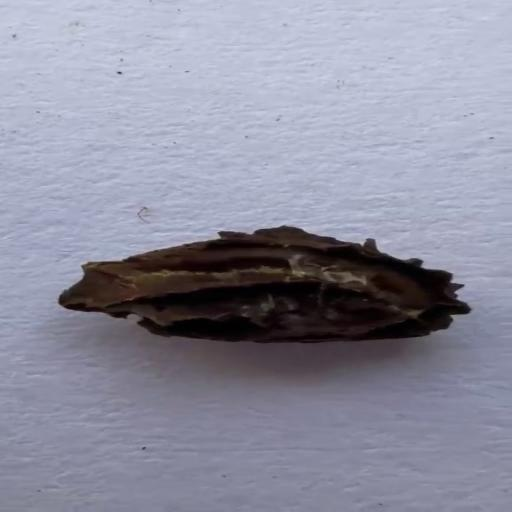papaya_seed: (48, 225, 483, 355)
